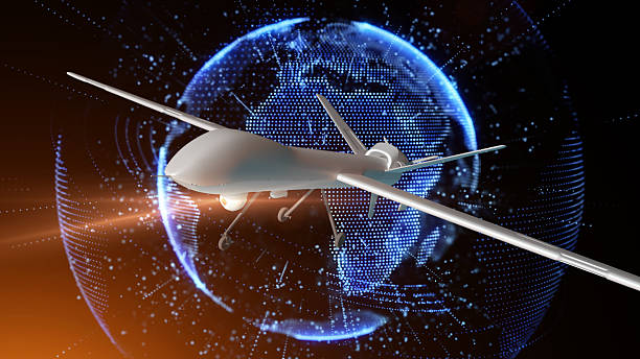military drone: (66, 71, 640, 291)
